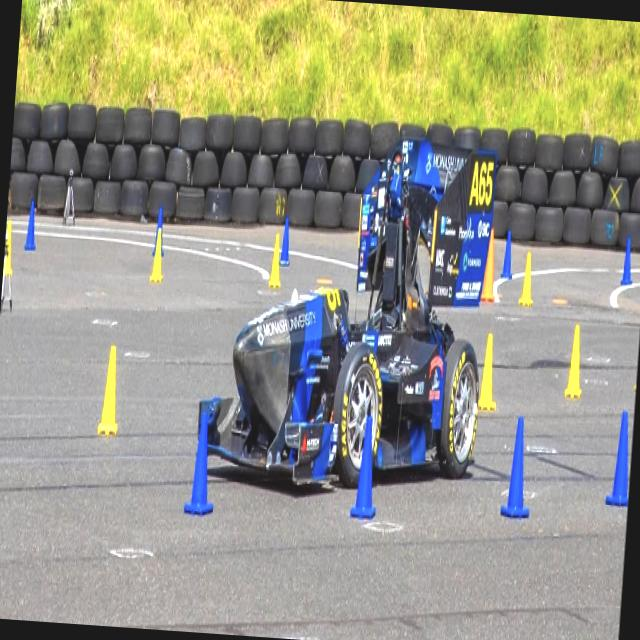blue_cone: (183, 410, 220, 515), (500, 416, 533, 517), (350, 416, 380, 518), (604, 410, 634, 506), (24, 201, 38, 250), (152, 207, 166, 254), (500, 230, 514, 276), (621, 238, 634, 286), (279, 217, 291, 266)
yellow_cone: (97, 344, 122, 434), (478, 333, 499, 410), (564, 326, 584, 396), (149, 227, 165, 282), (518, 252, 534, 304), (268, 234, 283, 286), (3, 222, 14, 272)
